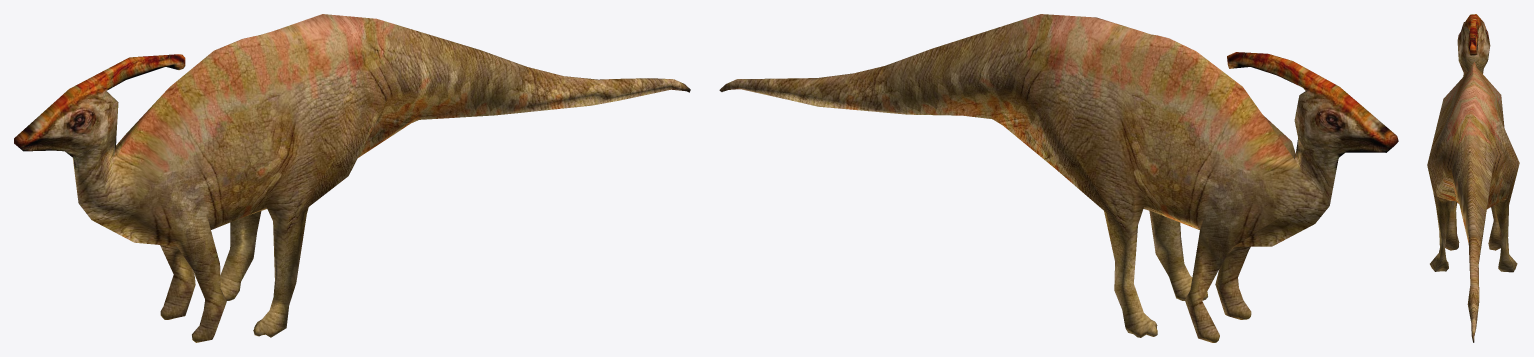
The model's file is hadro.obj.
3 renders of one model, left to right at view 1: azimuth 30°, elevation 25°; view 2: azimuth 150°, elevation 25°; view 3: azimuth 270°, elevation 25°, orthographic. The views are drawn at different scales.
Parts seen in each view (by area): view 1: dinopoli; view 2: dinopoli; view 3: dinopoli.
Boxes of the visible parts, x1,y1,x2,y2 form: dinopoli: [14, 14, 690, 342]; dinopoli: [719, 14, 1398, 342]; dinopoli: [1427, 14, 1519, 342].
Size of the model in its own units: 7.43 by 3 by 1.22.
1 material, 1 textured.
